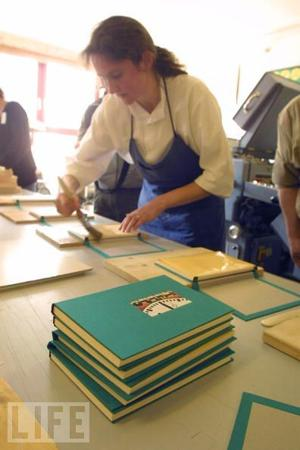person: (58, 17, 233, 256)
